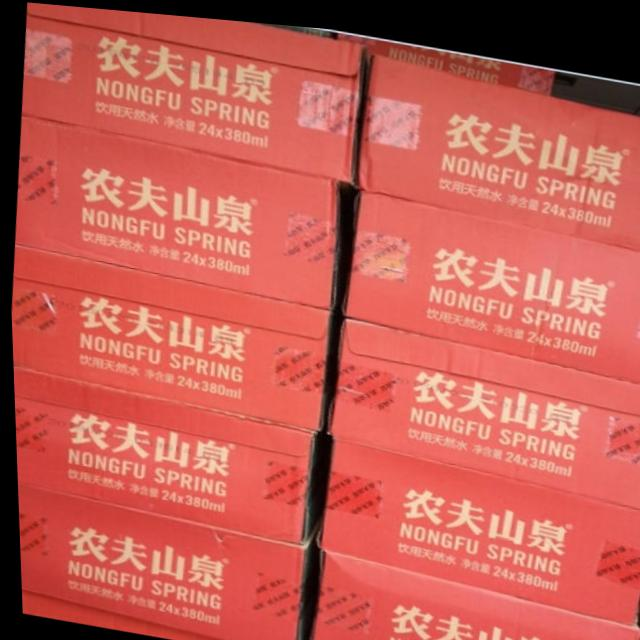box: (13, 113, 336, 304), (20, 2, 362, 178), (314, 431, 640, 614), (326, 312, 640, 498), (9, 245, 326, 424), (342, 182, 640, 372), (354, 48, 640, 240), (11, 367, 320, 539), (14, 485, 315, 640), (305, 544, 634, 640)
